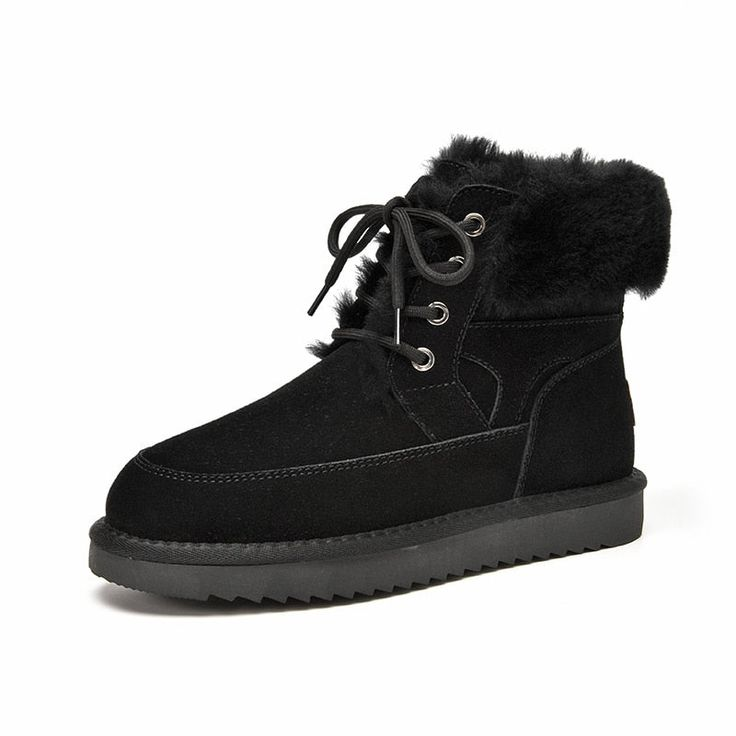gamuza: (104, 161, 635, 539)
